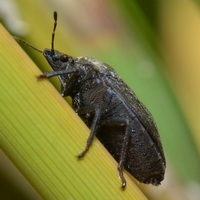insect: (16, 11, 165, 188)
